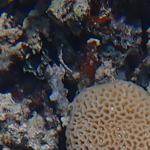dead: (5, 6, 146, 146)
